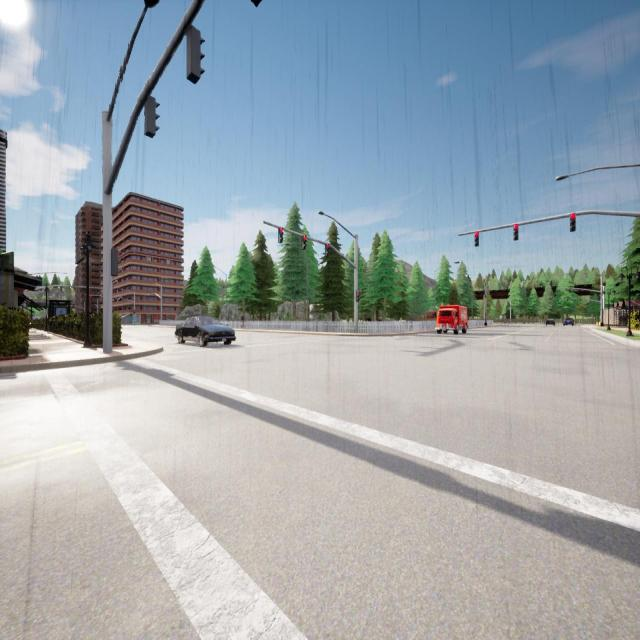Pedestrian: (241, 314, 244, 327)
Traffic_Signs: (500, 316, 502, 318)
Vehicle: (176, 316, 234, 347), (438, 305, 468, 334), (425, 312, 437, 320), (563, 318, 573, 326), (546, 319, 555, 325)
traffic_light: (187, 26, 205, 84), (145, 97, 160, 138), (110, 249, 118, 276), (570, 213, 576, 232), (278, 228, 283, 242), (514, 224, 518, 240), (474, 232, 478, 246), (302, 236, 306, 250), (325, 243, 329, 256), (356, 290, 359, 302), (89, 294, 92, 298), (569, 288, 571, 293), (101, 295, 103, 299), (134, 310, 135, 314), (580, 299, 581, 302), (557, 301, 558, 303), (567, 300, 568, 302)
